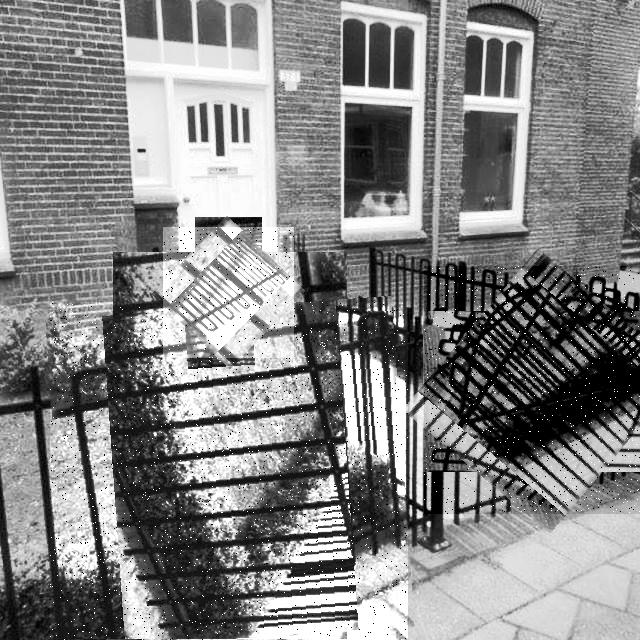fences: (50, 302, 408, 640), (424, 266, 640, 514), (163, 227, 294, 358)
